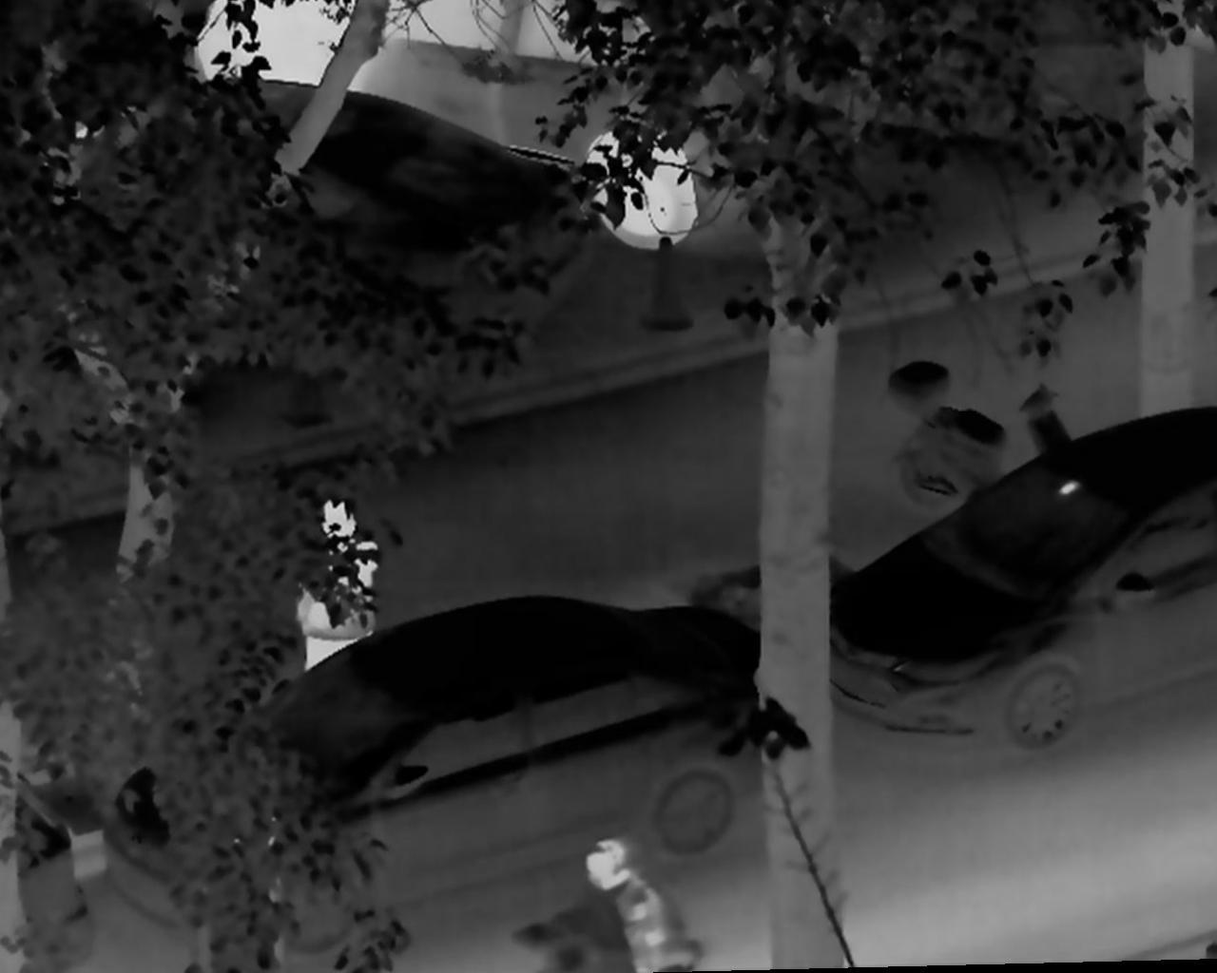person: (291, 495, 382, 674), (578, 836, 673, 973)
